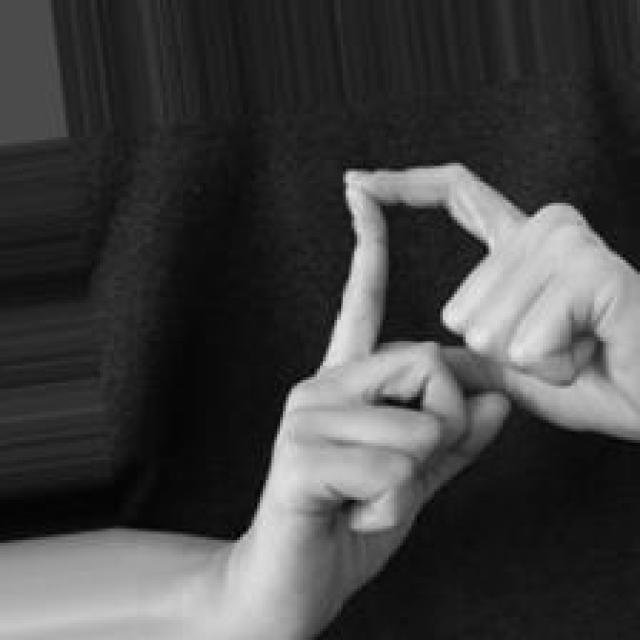D: (248, 154, 640, 639)
